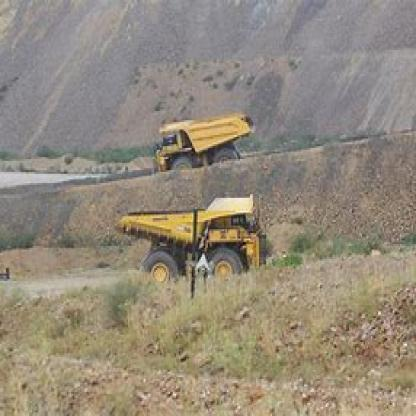dump_truck: (111, 190, 282, 296), (150, 108, 268, 180)
